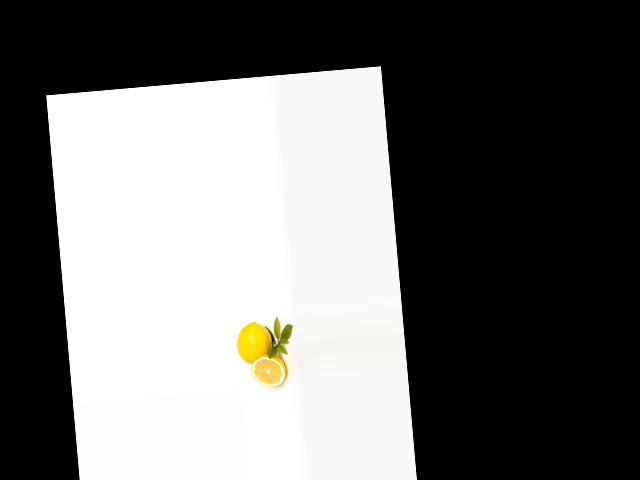lemon: (233, 316, 272, 364)
